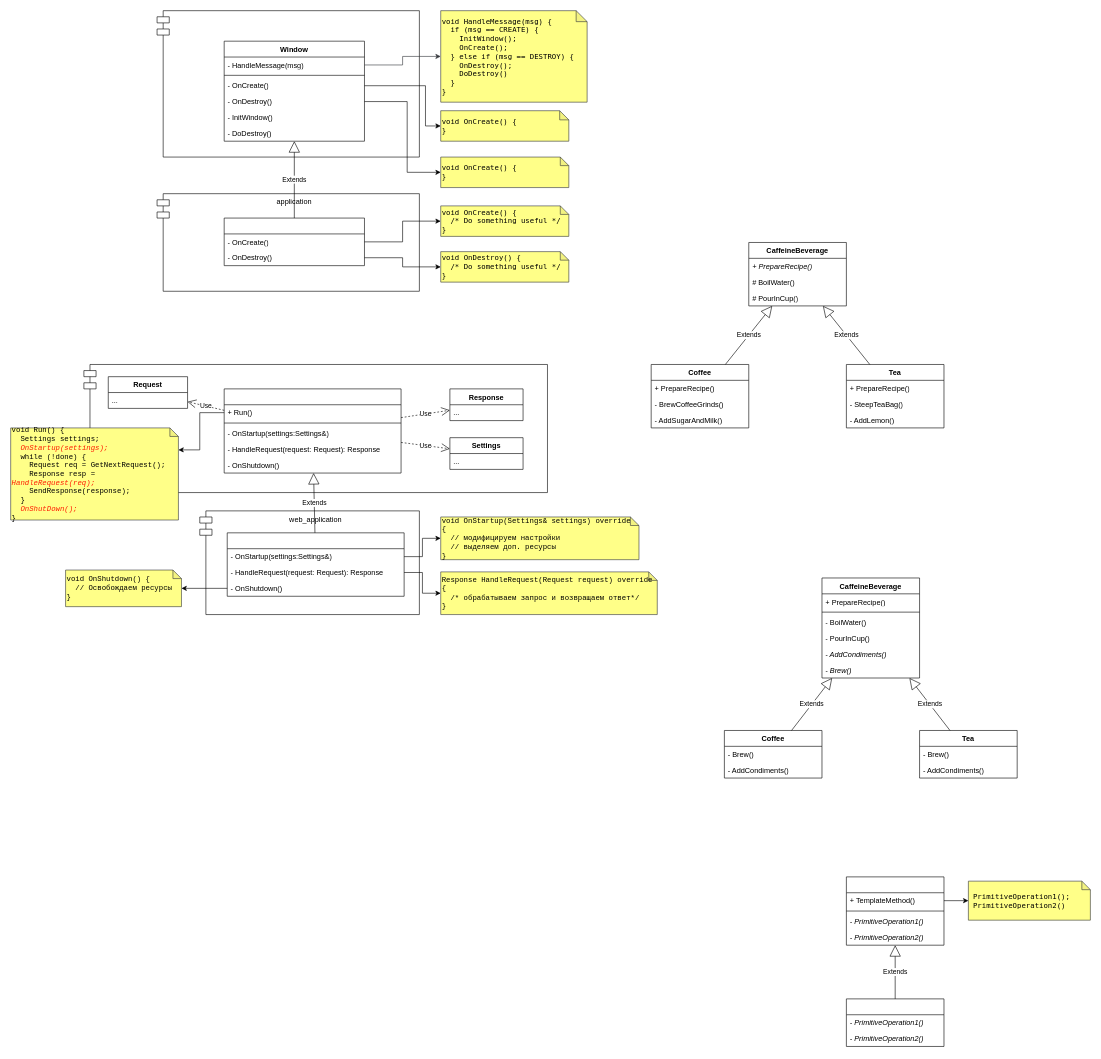
Some shapes in this 1101 by 1059 pixel diagram are drawn without their labels. Each missing label, with the box of its shape:
AbstractClass: (846, 876, 944, 945)
ConcreteClass: (846, 998, 944, 1046)
MainWindow: (224, 217, 364, 266)
MyWebServer: (227, 532, 404, 596)
ui framework: (156, 10, 419, 157)
web server framework: (83, 364, 547, 493)
WebServer: (224, 388, 401, 473)
